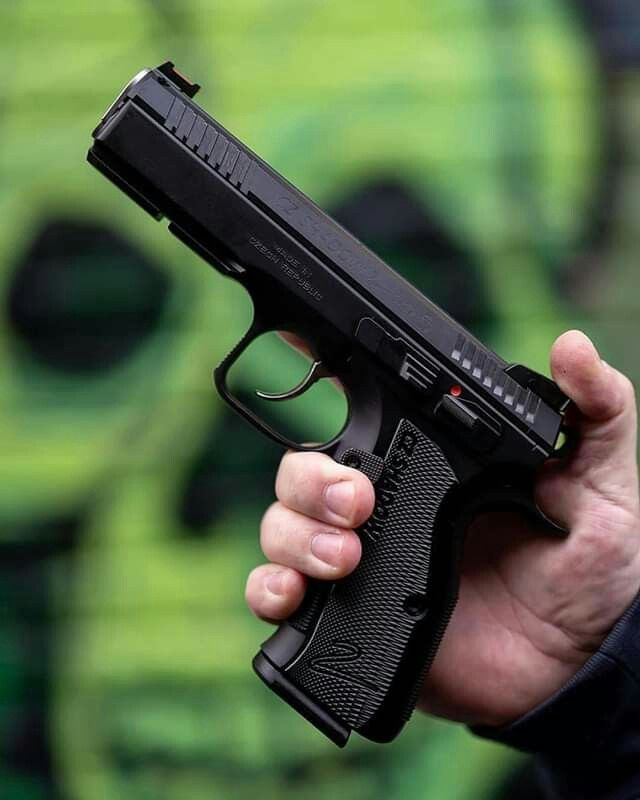gun: (82, 54, 588, 756)
